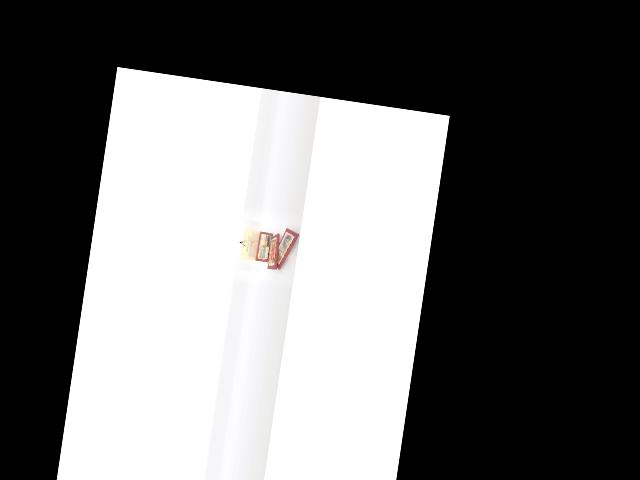chocolate: (272, 218, 304, 274)
